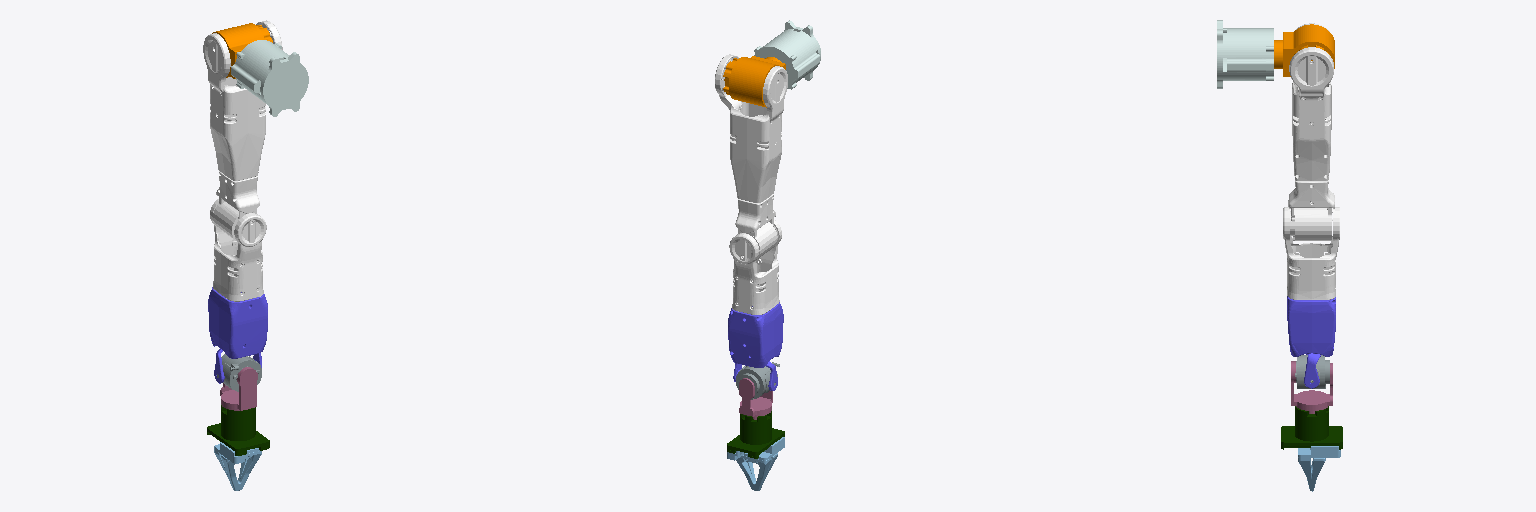
robot.urdf — yam_7dof_left:
<?xml version="1.0" ?>
<!-- Generated using onshape-to-robot -->
<!-- Onshape document_id: a30d2ef2655863e671c75240 -->
<!-- onshape-heading: v1 applied 2026-09-17; rpy="0 1.5707963267948966 -1.5707963267948966"; tool=.claude/skills/transform-onshape-urdf/scripts/apply_urdf_heading.py -->
<!-- i2rt-port: v1 applied 2026-09-17; joint1/3/5/6 axes re-signed (<limit> negated and swapped with each) so the home-pose world axes are -y -x -z -y -z -x -y; joint7 origin right-multiplied by Rz(180) so the terminal `gripper` block carries over unchanged. That block is not export data: it is the canonical linear_4310 plus the split wrist, spliced in from the previous model. -->
<robot name="yam_7dof_left">
    <link name="base">
        <inertial>
            <origin xyz="1.95071e-05 0.0497882 -3.13786e-05" rpy="0 1.57079632679 1.57079632679" />
            <mass value="1.28789" />
            <inertia ixx="0.00160702" ixy="-6.64e-10" ixz="1.53831e-06" iyy="0.00153482" iyz="9.41377e-07" izz="0.00129912" />
        </inertial>
        <visual>
            <origin xyz="0 0.1565 -0.112133" rpy="0 1.57079632679 1.57079632679" />
            <geometry>
                <mesh filename="assets/base.stl" />
            </geometry>
            <material name="base_material">
                <color rgba="0.862745 0.937255 0.929412 1" />
            </material>
        </visual>
        <collision>
            <origin xyz="0 0.1565 -0.112133" rpy="0 1.57079632679 1.57079632679" />
            <geometry>
                <mesh filename="assets/base.stl" />
            </geometry>
        </collision>
    </link>
    <link name="link1">
        <inertial>
            <origin xyz="-0 0.00383646 -0.0549694" rpy="0 0 0" />
            <mass value="1.0034" />
            <inertia ixx="0.00109454" ixy="-0" ixz="0" iyy="0.000939051" iyz="3.052e-05" izz="0.000841783" />
        </inertial>
        <visual>
            <origin xyz="0.112133 -0 -0.062" rpy="-3.14159 -0 -0" />
            <geometry>
                <mesh filename="assets/link1.stl" />
            </geometry>
            <material name="link1_material">
                <color rgba="1 0.6 0 1" />
            </material>
        </visual>
        <collision>
            <origin xyz="0.112133 -0 -0.062" rpy="-3.14159 -0 -0" />
            <geometry>
                <mesh filename="assets/link1.stl" />
            </geometry>
        </collision>
    </link>
    <link name="link2">
        <inertial>
            <origin xyz="0.106908 -8.70615e-07 0.0475462" rpy="0 0 0" />
            <mass value="0.95628" />
            <inertia ixx="0.00160881" ixy="1.0518e-08" ixz="-0.000241694" iyy="0.00577331" iyz="-1.6171e-08" izz="0.0052621" />
        </inertial>
        <visual>
            <origin xyz="0.112133 0 0.0501" rpy="1.5708 -0 0" />
            <geometry>
                <mesh filename="assets/link2.stl" />
            </geometry>
            <material name="link2_material">
                <color rgba="1 1 1 1" />
            </material>
        </visual>
        <collision>
            <origin xyz="0.112133 0 0.0501" rpy="1.5708 -0 0" />
            <geometry>
                <mesh filename="assets/link2.stl" />
            </geometry>
        </collision>
    </link>
    <link name="link3">
        <inertial>
            <origin xyz="-0.0011414 2.4009e-05 -0.0698293" rpy="0 0 0" />
            <mass value="0.83983" />
            <inertia ixx="0.00095532" ixy="-6.858e-08" ixz="-2.41461e-05" iyy="0.00109338" iyz="-1.08025e-06" izz="0.00045315" />
        </inertial>
        <visual>
            <origin xyz="-0 -0 0.106867" rpy="-1.5708 1.5708 0" />
            <geometry>
                <mesh filename="assets/link3.stl" />
            </geometry>
            <material name="link3_material">
                <color rgba="1 1 1 1" />
            </material>
        </visual>
        <collision>
            <origin xyz="-0 -0 0.106867" rpy="-1.5708 1.5708 0" />
            <geometry>
                <mesh filename="assets/link3.stl" />
            </geometry>
        </collision>
    </link>
    <link name="link4">
        <inertial>
            <origin xyz="0.0654359 -9.05861e-07 0.0354242" rpy="0 0 0" />
            <mass value="0.66056" />
            <inertia ixx="0.00105591" ixy="1.368e-08" ixz="-2.38897e-06" iyy="0.00199688" iyz="6.15e-09" izz="0.00160454" />
        </inertial>
        <visual>
            <origin xyz="-0.196267 0 0.0354495" rpy="1.5708 -0 -0" />
            <geometry>
                <mesh filename="assets/link4.stl" />
            </geometry>
            <material name="link4_material">
                <color rgba="1 1 1 1" />
            </material>
        </visual>
        <collision>
            <origin xyz="-0.196267 0 0.0354495" rpy="1.5708 -0 -0" />
            <geometry>
                <mesh filename="assets/link4.stl" />
            </geometry>
        </collision>
    </link>
    <link name="link5">
        <inertial>
            <origin xyz="-0.00468947 0.000452694 -0.0656789" rpy="0 0 0" />
            <mass value="0.6884" />
            <inertia ixx="0.001363" ixy="-4.02887e-06" ixz="-6.7093e-05" iyy="0.00128827" iyz="1.19113e-05" izz="0.000864955" />
        </inertial>
        <visual>
            <origin xyz="5.21807e-07 0 0.319767" rpy="-1.5708 1.5708 0" />
            <geometry>
                <mesh filename="assets/link5.stl" />
            </geometry>
            <material name="link5_material">
                <color rgba="0.447059 0.415686 1 1" />
            </material>
        </visual>
        <collision>
            <origin xyz="5.21807e-07 0 0.319767" rpy="-1.5708 1.5708 0" />
            <geometry>
                <mesh filename="assets/link5.stl" />
            </geometry>
        </collision>
    </link>
    <link name="link6">
        <inertial>
            <origin xyz="-6.47372e-05 -0.000188696 -0.038139" rpy="0 0 0" />
            <mass value="0.4074" />
            <inertia ixx="0.000183696" ixy="-1.99675e-06" ixz="-1.07788e-06" iyy="0.00017194" iyz="-1.27128e-06" izz="0.000168067" />
        </inertial>
        <visual>
            <origin xyz="-0.467267 -5.21807e-07 -0.038" rpy="-0 -0 0" />
            <geometry>
                <mesh filename="assets/link6.stl" />
            </geometry>
            <material name="link6_material">
                <color rgba="0.611765 0.658824 0.670588 1" />
            </material>
        </visual>
        <collision>
            <origin xyz="-0.467267 -5.21807e-07 -0.038" rpy="-0 -0 0" />
            <geometry>
                <mesh filename="assets/link6.stl" />
            </geometry>
        </collision>
    </link>
    <link name="gripper">
        <inertial>
            <origin xyz="-0.0982143 -0.0003297066 0.025387629" rpy="0 0 0" />
            <mass value="0.553219" />
            <inertia ixx="0.000369248826123" ixy="7.91271674801e-07" ixz="4.83956503021e-06" iyy="0.000409668107867" iyz="-5.44942466283e-07" izz="0.00032494206601" />
        </inertial>
        <visual>
            <origin xyz="0.004199 -0.014294 0.0720365" rpy="1.57079632679 0 1.57079632679" />
            <geometry>
                <mesh filename="assets/gripper.stl" />
            </geometry>
            <material name="gripper_material">
                <color rgba="0.109804 0.286275 0.0117647 1" />
            </material>
        </visual>
        <collision>
            <origin xyz="0.004199 -0.014294 0.0720365" rpy="1.57079632679 0 1.57079632679" />
            <geometry>
                <mesh filename="assets/gripper.stl" />
            </geometry>
        </collision>
        <visual>
            <origin xyz="-0.398708 -0.192838 -1.68458" rpy="-0.126639 0.261799 0" />
            <geometry>
                <mesh filename="assets/wrist.stl" />
            </geometry>
            <material name="wrist_material">
                <color rgba="0.694118 0.458824 0.576471 1" />
            </material>
        </visual>
        <collision>
            <origin xyz="-0.398708 -0.192838 -1.68458" rpy="-0.126639 0.261799 0" />
            <geometry>
                <mesh filename="assets/wrist.stl" />
            </geometry>
        </collision>
    </link>
    <link name="tip_left">
        <inertial>
            <origin xyz="-0.0224716 -0.0143408 -0.0426253" rpy="0 0 0" />
            <mass value="0.0710042" />
            <inertia ixx="4.8235123385e-05" ixy="-1.03366001935e-05" ixz="-1.13904016536e-05" iyy="5.19530369196e-05" iyz="-1.10487003583e-05" izz="5.06981396954e-05" />
        </inertial>
        <visual>
            <origin xyz="0.129783 -0.00999321 -0.0914614" rpy="-1.57080032679 -8.00004507084e-12 -1.57080032679" />
            <geometry>
                <mesh filename="assets/tip_left.stl" />
            </geometry>
            <material name="tip_left_material">
                <color rgba="0.596078 0.788235 0.921569 1" />
            </material>
        </visual>
        <collision>
            <origin xyz="0.129783 -0.00999321 -0.0914614" rpy="-1.57080032679 -8.00004507084e-12 -1.57080032679" />
            <geometry>
                <mesh filename="assets/tip_left.stl" />
            </geometry>
        </collision>
    </link>
    <link name="tip_right">
        <inertial>
            <origin xyz="-0.0143408 0.0224716 -0.0426253" rpy="0 0 0" />
            <mass value="0.0710042" />
            <inertia ixx="5.19530428654e-05" ixy="1.03366033432e-05" ixz="-1.10486926531e-05" iyy="4.82351079161e-05" iyz="1.13904042695e-05" izz="5.06981492185e-05" />
        </inertial>
        <visual>
            <origin xyz="-0.0379932 -0.129783 0.00133753" rpy="1.57080056944 0 0" />
            <geometry>
                <mesh filename="assets/tip_right.stl" />
            </geometry>
            <material name="tip_right_material">
                <color rgba="0.596078 0.788235 0.921569 1" />
            </material>
        </visual>
        <collision>
            <origin xyz="-0.0379932 -0.129783 0.00133753" rpy="1.57080056944 0 0" />
            <geometry>
                <mesh filename="assets/tip_right.stl" />
            </geometry>
        </collision>
    </link>
    <joint name="joint1" type="revolute">
        <origin xyz="0.000116187 0.0945 0" rpy="0 1.57079632679 -1.57079898038" />
        <parent link="base" />
        <child link="link1" />
        <axis xyz="0 0 1" />
        <limit effort="10" velocity="10" lower="-2.79253" upper="2.79253" />
    </joint>
    <joint name="joint2" type="revolute">
        <origin xyz="-0 0.0501 -0.062" rpy="1.5708 1e-12 -0" />
        <parent link="link1" />
        <child link="link2" />
        <axis xyz="0 0 -1" />
        <limit effort="10" velocity="10" lower="-0.436332" upper="3.57792" />
    </joint>
    <joint name="joint3" type="revolute">
        <origin xyz="0.219 -0 0.0501" rpy="-1.5708 -0 1.5708" />
        <parent link="link2" />
        <child link="link3" />
        <axis xyz="0 0 1" />
        <limit effort="10" velocity="10" lower="-1.832596" upper="1.832596" />
    </joint>
    <joint name="joint4" type="revolute">
        <origin xyz="0.03545 -0 -0.0894" rpy="3.14159 1.5708 0" />
        <parent link="link3" />
        <child link="link4" />
        <axis xyz="0 0 -1" />
        <limit effort="10" velocity="10" lower="-2.0944" upper="2.0944" />
    </joint>
    <joint name="joint5" type="revolute">
        <origin xyz="0.1235 0 0.03545" rpy="-3.14159 1.5708 0" />
        <parent link="link4" />
        <child link="link5" />
        <axis xyz="0 0 1" />
        <limit effort="10" velocity="10" lower="-1.8326" upper="1.8326" />
    </joint>
    <joint name="joint6" type="revolute">
        <origin xyz="0 0.0381 -0.1475" rpy="-1.5708 1.5708 0" />
        <parent link="link5" />
        <child link="link6" />
        <axis xyz="0 0 1" />
        <limit effort="10" velocity="10" lower="-0.959931" upper="0.785398" />
    </joint>
    <joint name="joint7" type="revolute">
        <origin xyz="4.47332e-06 -0.02565 -0.0380064" rpy="1.5708 0 3.14159265359" />
        <parent link="link6" />
        <child link="gripper" />
        <axis xyz="0 0 -1" />
        <limit effort="10" velocity="10" lower="-1.5708" upper="1.5708" />
    </joint>
    <joint name="joint8" type="prismatic">
        <origin xyz="-0.1255839 -0.0241921 -0.0194249" rpy="-3.14158865359 8.00026711545e-12 -3.99999999989e-06" />
        <parent link="gripper" />
        <child link="tip_left" />
        <axis xyz="0 0 -1" />
        <limit effort="10" velocity="10" lower="0" upper="0.0475" />
    </joint>
    <joint name="joint9" type="prismatic">
        <origin xyz="-0.1255839 0.0236041 0.0706989" rpy="-4.24264237431e-06 0 1.57079632679" />
        <parent link="gripper" />
        <child link="tip_right" />
        <axis xyz="0 0 -1" />
        <limit effort="10" velocity="10" lower="0" upper="0.0475" />
    </joint>
</robot>

--- What the picture shows (computed from the rendered views, not written in the file) ---
3 views of the same robot in one strip: view 1: azimuth 30°, elevation 25°; view 2: azimuth 150°, elevation 25°; view 3: azimuth 270°, elevation 25° (orthographic).
Robot: yam_7dof_left — 10 links, 9 joints (7 revolute, 2 prismatic); root link base; default pose: every joint at zero.
Links seen in each view (by area): view 1: link2, base, link4, link5, gripper, link3, link1, link6, tip_right; view 2: link2, link4, link5, gripper, base, link1, link3, tip_left, link6; view 3: link2, link4, base, link5, gripper, link3, link1, tip_right, link6.
Boxes of the visible links, x1=… form: link2: x1=203, y1=20, x2=282, y2=180; base: x1=231, y1=40, x2=308, y2=116; link4: x1=210, y1=199, x2=266, y2=301; link5: x1=208, y1=287, x2=267, y2=383; gripper: x1=207, y1=367, x2=269, y2=455; link3: x1=213, y1=171, x2=259, y2=240; link1: x1=212, y1=23, x2=272, y2=78; link6: x1=217, y1=354, x2=261, y2=391; tip_right: x1=221, y1=448, x2=261, y2=490; link2: x1=715, y1=54, x2=787, y2=202; link4: x1=729, y1=220, x2=781, y2=314; link5: x1=728, y1=302, x2=783, y2=390; gripper: x1=727, y1=378, x2=784, y2=458; base: x1=754, y1=20, x2=820, y2=89; link1: x1=723, y1=56, x2=785, y2=107; link3: x1=735, y1=194, x2=777, y2=258; tip_left: x1=736, y1=437, x2=784, y2=490; link6: x1=736, y1=362, x2=779, y2=399; link2: x1=1289, y1=23, x2=1333, y2=180; link4: x1=1283, y1=207, x2=1339, y2=299; base: x1=1217, y1=20, x2=1273, y2=88; link5: x1=1287, y1=296, x2=1335, y2=388; gripper: x1=1281, y1=361, x2=1342, y2=449; link3: x1=1288, y1=180, x2=1334, y2=240; link1: x1=1274, y1=24, x2=1334, y2=76; tip_right: x1=1298, y1=446, x2=1340, y2=490; link6: x1=1295, y1=355, x2=1329, y2=388.
Bounding box of the posed robot: 0.114 × 0.2075 × 0.8474 m (x, y, z).
Meshes: 11 distinct files referenced, 11 mesh visuals loaded (11 binary STL).
